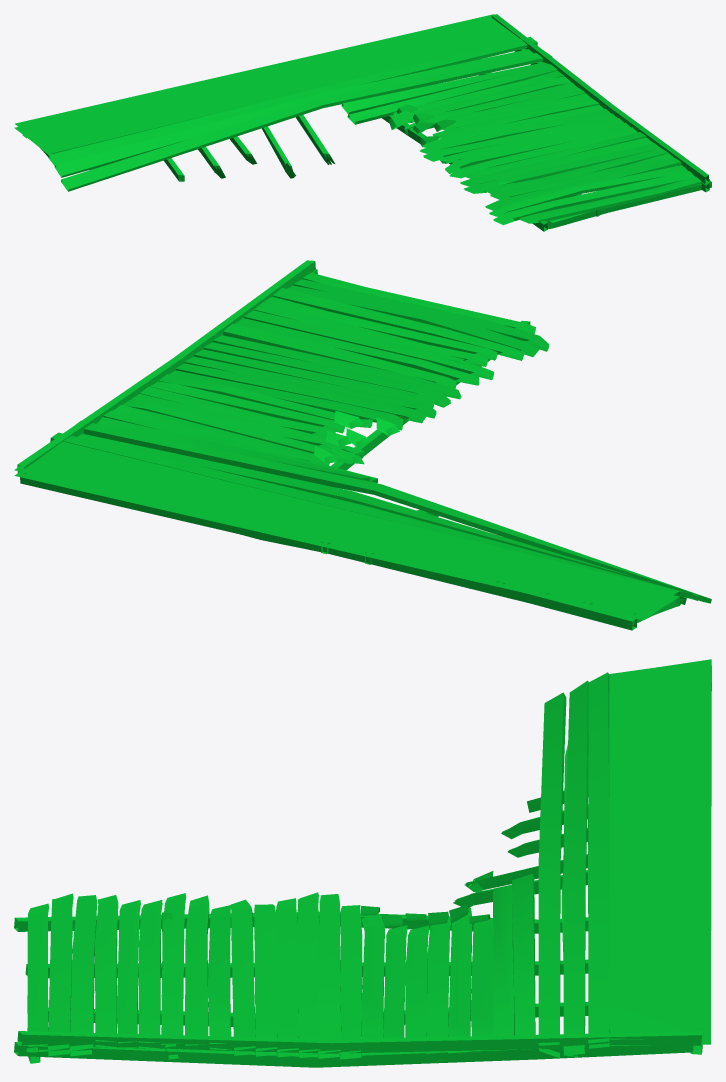
File: MI_SmallLodge_SecondFloor.fbx
3 views of the same model, one above another, from view 1: azimuth 30°, elevation 25°; view 2: azimuth 150°, elevation 25°; view 3: azimuth 270°, elevation 25° (orthographic). The views are drawn at different scales.
Parts seen in each view (by area): view 1: SM_ST_SmallLodge01.mo; view 2: SM_ST_SmallLodge01.mo; view 3: SM_ST_SmallLodge01.mo.
Part boxes in pixels (box(x1,y1,x2,y2)): SM_ST_SmallLodge01.mo: box(14, 14, 711, 231); SM_ST_SmallLodge01.mo: box(14, 260, 711, 630); SM_ST_SmallLodge01.mo: box(14, 659, 711, 1067).
Size of the model in its own units: 968 by 768 by 93.99.
